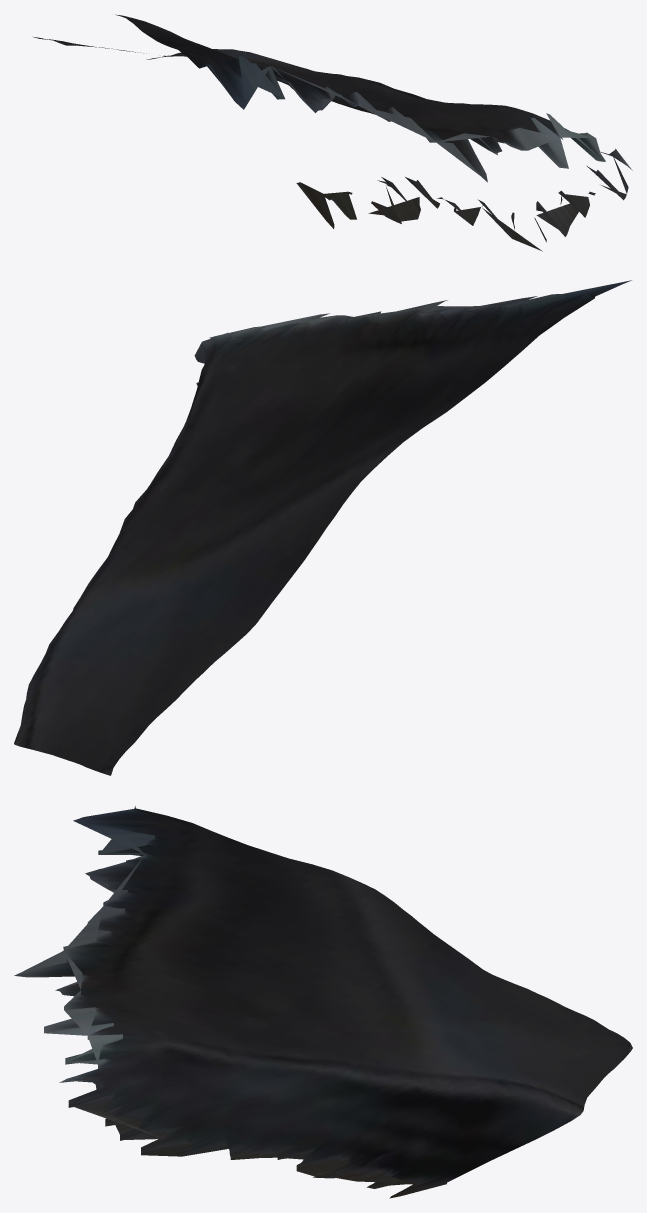
File: observed-surface.glb
The picture shows the model from 3 angles, top to bottom: view 1: azimuth 30°, elevation 25°; view 2: azimuth 150°, elevation 25°; view 3: azimuth 270°, elevation 25°; orthographic projection. The views are drawn at different scales.
Visible parts, largest first — view 1: geometry_0; view 2: geometry_0; view 3: geometry_0.
Part boxes in pixels (x1,y1,x2,y2): geometry_0: (32,14,632,251); geometry_0: (14,280,631,775); geometry_0: (14,806,632,1198).
Size of the model in its own units: 0.5559 by 0.4838 by 0.9678.
1 material, 1 textured.
